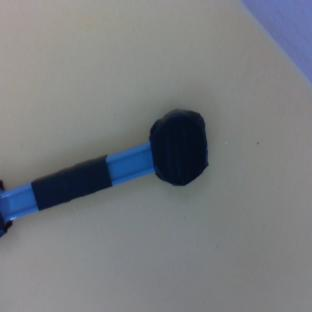part_3_bad: (0, 103, 219, 237)
